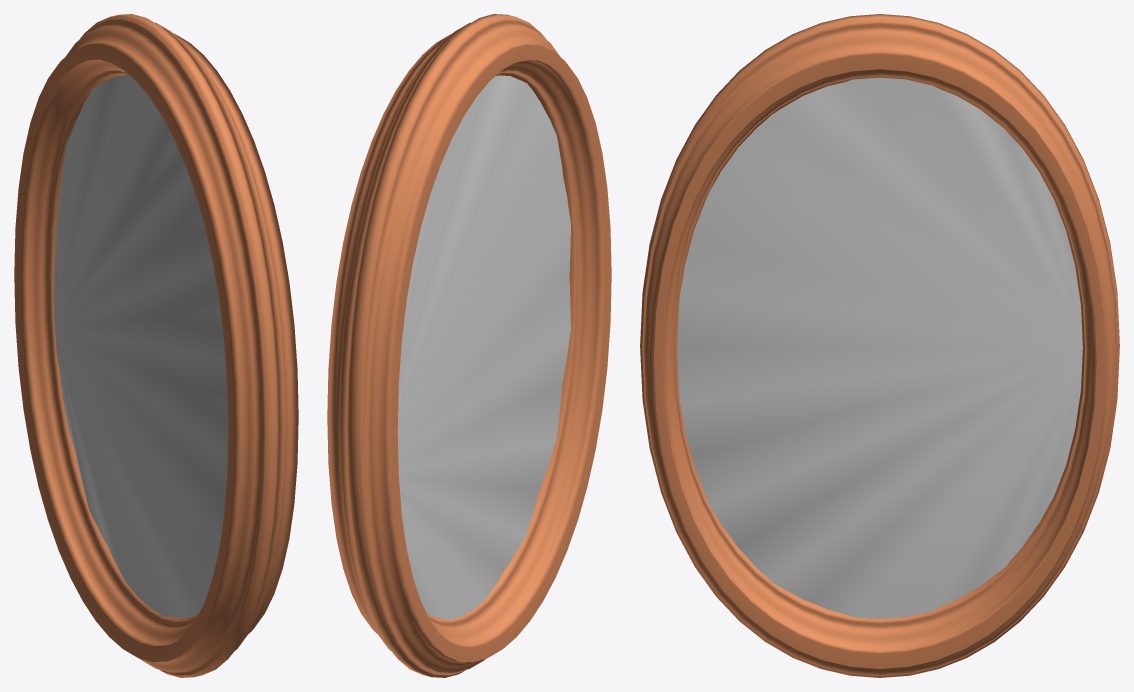
File: mirror.fbx
The picture shows the model from 3 angles, left to right: view 1: azimuth 30°, elevation 25°; view 2: azimuth 150°, elevation 25°; view 3: azimuth 270°, elevation 25°; orthographic projection. The views are drawn at different scales.
Parts seen in each view (by area): view 1: Cylinder; view 2: Cylinder; view 3: Cylinder.
Boxes of the visible parts, bbox=[...] form: Cylinder: bbox=[14, 14, 298, 677]; Cylinder: bbox=[327, 14, 611, 677]; Cylinder: bbox=[640, 14, 1119, 677].
Size of the model in its own units: 43.59 by 395 by 260.
